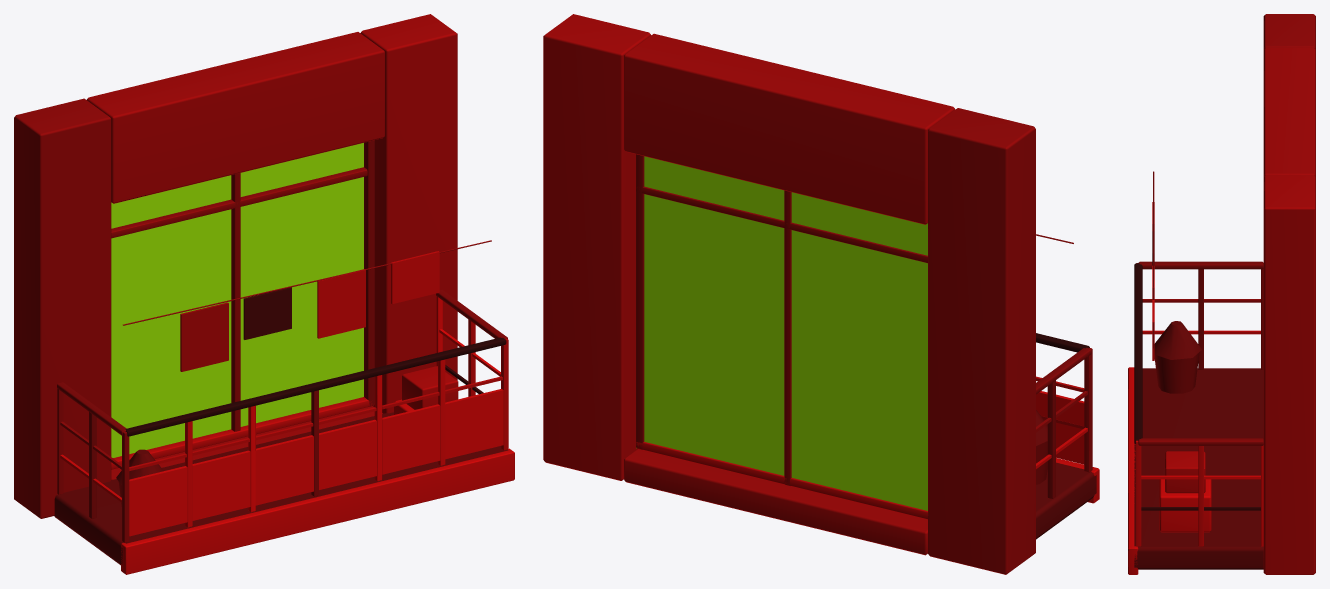
Rendered from fac_balcony_a.glb.
The picture shows the model from 3 angles, left to right: view 1: azimuth 30°, elevation 25°; view 2: azimuth 150°, elevation 25°; view 3: azimuth 270°, elevation 25°; orthographic projection. The views are drawn at different scales.
Parts seen in each view (by area): view 1: fac_balcony_a; view 2: fac_balcony_a; view 3: fac_balcony_a.
Part boxes in pixels (x1=…): fac_balcony_a: x1=14, y1=14, x2=514, y2=574; fac_balcony_a: x1=543, y1=14, x2=1099, y2=574; fac_balcony_a: x1=1128, y1=14, x2=1315, y2=574.
Bounding box in the file's own units: 3.98 × 3.56 × 1.62.
